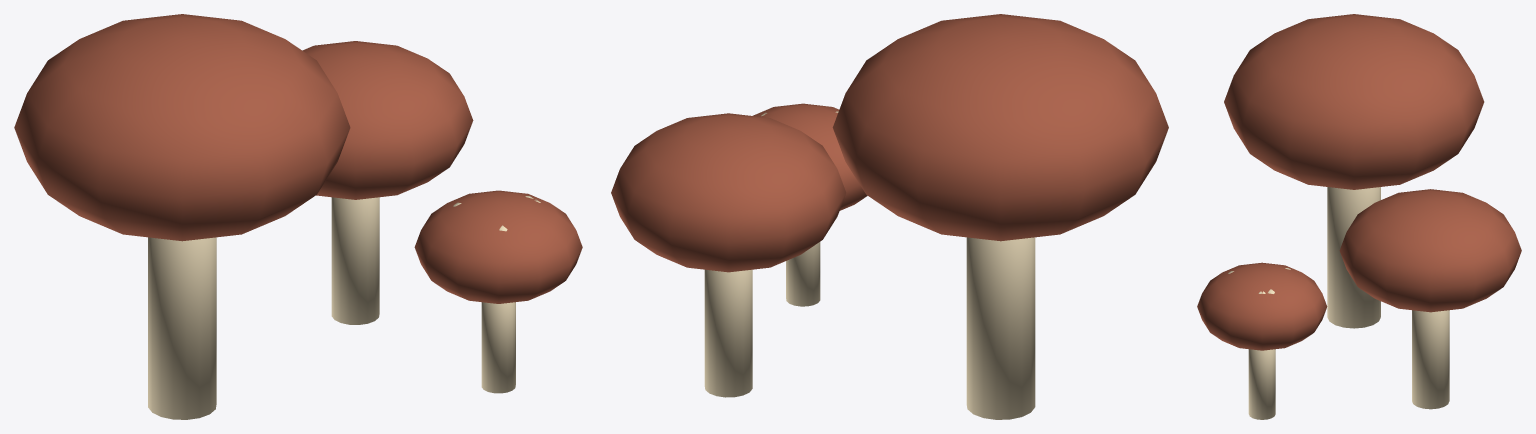
The model's file is mushrooms.glb.
The picture shows the model from 3 angles, left to right: view 1: azimuth 30°, elevation 25°; view 2: azimuth 150°, elevation 25°; view 3: azimuth 270°, elevation 25°; orthographic projection. The views are drawn at different scales.
Parts seen in each view (by area): view 1: mushrooms_World_Mesh; view 2: mushrooms_World_Mesh; view 3: mushrooms_World_Mesh.
Part boxes in pixels (x1,y1,x2,y2): mushrooms_World_Mesh: (14, 14, 582, 419); mushrooms_World_Mesh: (611, 14, 1168, 419); mushrooms_World_Mesh: (1197, 14, 1521, 419).
Size of the model in its own units: 0.555 by 0.41 by 0.424.
